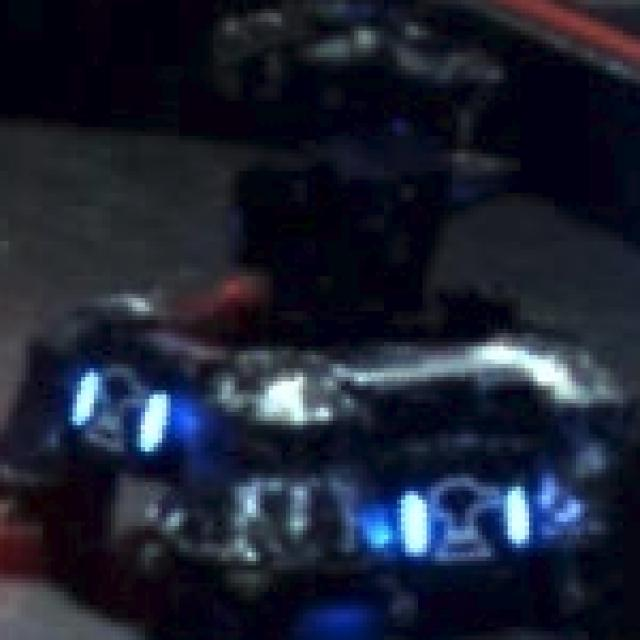Bs: (392, 469, 542, 570), (64, 364, 175, 460)
